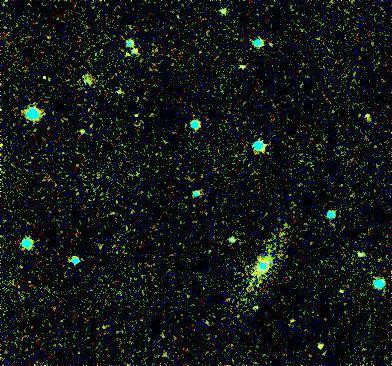star: (112, 40, 142, 70)
